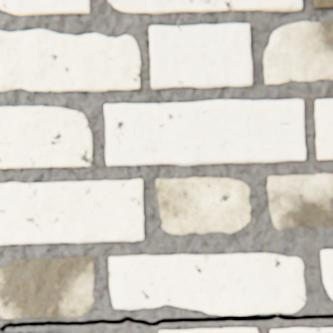brick: (105, 101, 304, 166), (110, 254, 304, 314), (0, 180, 143, 245), (0, 31, 140, 92), (150, 25, 251, 89), (0, 257, 95, 318), (0, 108, 92, 169), (156, 178, 249, 234), (264, 23, 332, 84), (267, 175, 332, 229), (108, 0, 301, 14), (0, 0, 89, 16), (315, 101, 332, 160), (321, 250, 332, 299), (159, 328, 257, 332), (270, 328, 332, 332), (312, 0, 332, 10)
crack: (0, 313, 332, 330)
